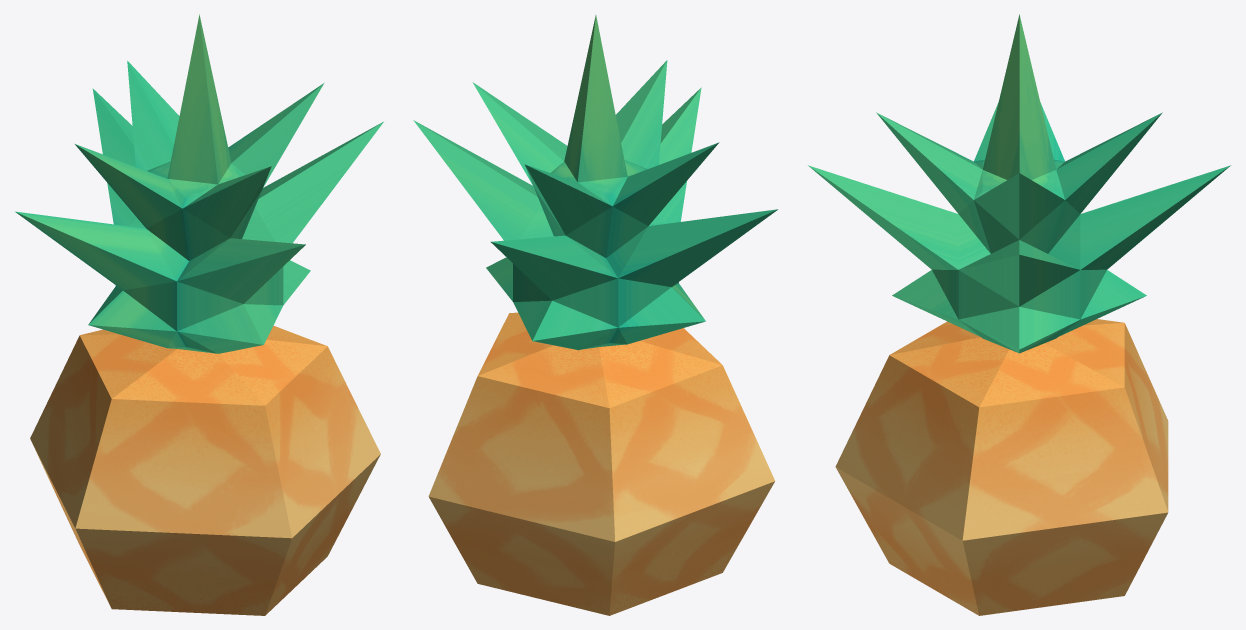
The model's file is pineapple.obj.
The picture shows the model from 3 angles, left to right: view 1: azimuth 30°, elevation 25°; view 2: azimuth 150°, elevation 25°; view 3: azimuth 270°, elevation 25°; orthographic projection.
Visible parts, largest first — view 1: pineapple_Sphere; view 2: pineapple_Sphere; view 3: pineapple_Sphere.
Part boxes in pixels (x1,y1,x2,y2): pineapple_Sphere: (15, 14, 383, 615); pineapple_Sphere: (413, 15, 777, 615); pineapple_Sphere: (808, 14, 1230, 615).
Size of the model in its own units: 1.96 by 3 by 1.96.
